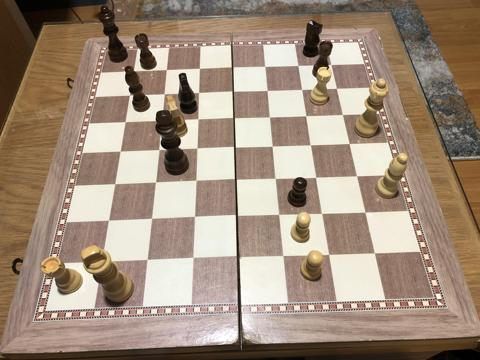xcorner: (194, 63, 207, 76), (161, 64, 174, 77), (260, 62, 273, 74), (227, 63, 240, 75), (128, 65, 140, 78), (332, 83, 344, 96), (297, 84, 309, 97), (301, 111, 314, 123), (192, 143, 204, 156), (311, 172, 324, 184), (190, 176, 203, 188), (150, 177, 162, 190), (317, 208, 329, 221), (103, 215, 115, 228), (142, 255, 154, 268), (326, 60, 338, 72), (293, 61, 305, 73), (263, 86, 275, 98), (228, 87, 240, 99), (194, 88, 206, 100), (159, 89, 171, 101), (124, 90, 136, 102), (338, 110, 350, 122), (265, 112, 277, 124), (229, 113, 241, 125), (193, 114, 205, 126), (156, 115, 168, 127), (120, 116, 132, 128), (344, 139, 356, 151), (306, 140, 318, 152), (268, 141, 280, 153), (230, 142, 242, 154), (153, 145, 165, 157), (115, 146, 127, 158), (352, 171, 364, 183), (271, 174, 283, 186), (231, 175, 243, 187), (109, 179, 121, 191), (360, 207, 372, 219), (275, 210, 287, 222), (232, 211, 244, 223), (189, 213, 201, 225), (146, 214, 158, 226), (369, 248, 381, 260), (324, 249, 336, 261), (279, 251, 291, 263), (233, 252, 245, 264), (188, 254, 200, 266), (96, 257, 108, 269)
